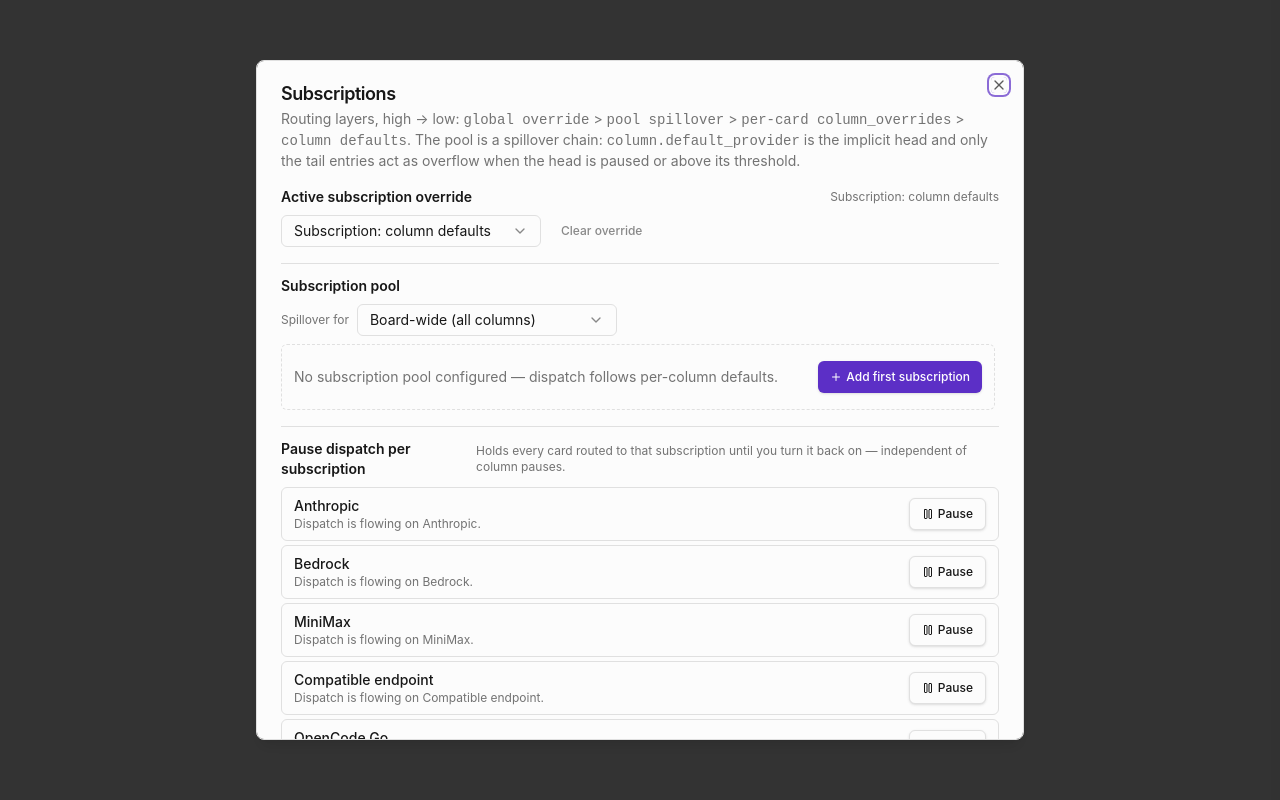
SubscriptionPoolDialog — pool section › renders a CLI selector defaulting to Claude Code on new entries (kaart 8f40d443…)
Click the button "Add first subscription" at (900,377), box [818,361,982,393]
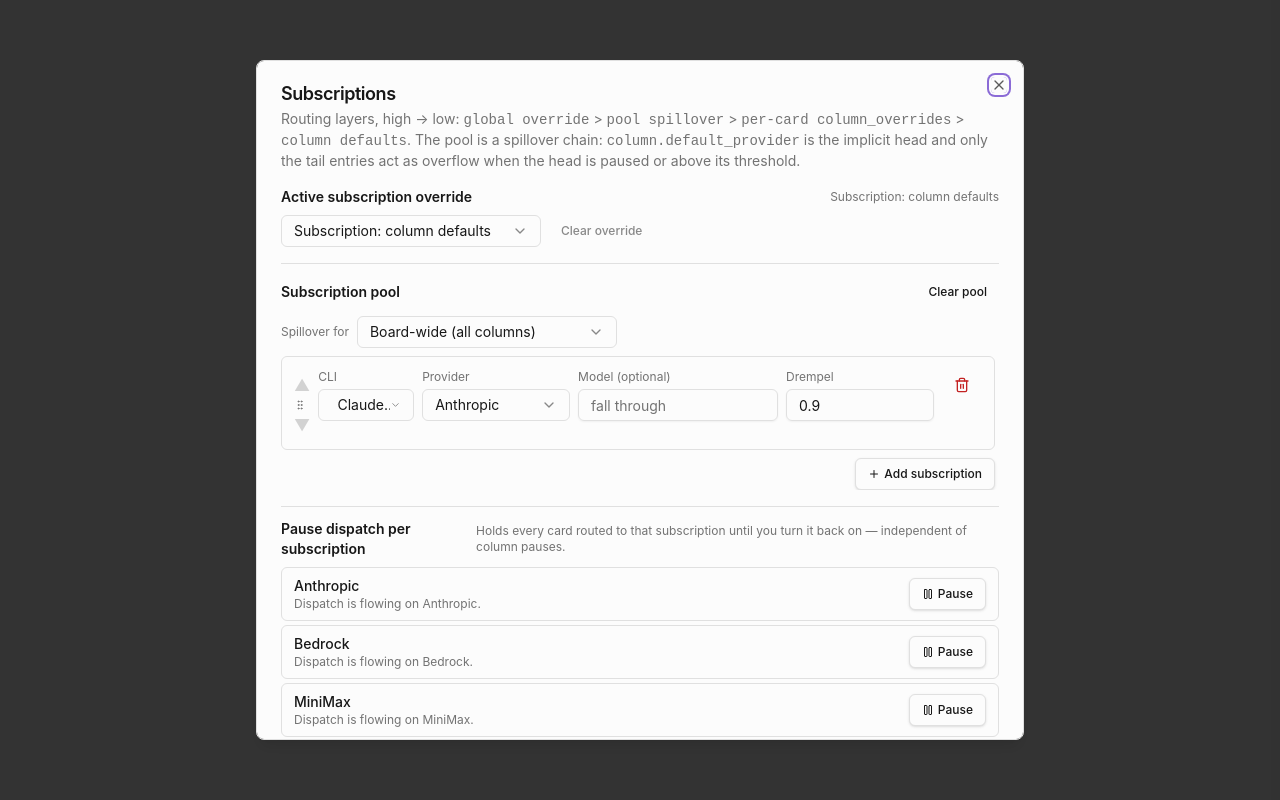
Result: the dropdown named "CLI for pool entry 1" reads "Claude Code" at [318,389,414,421]
